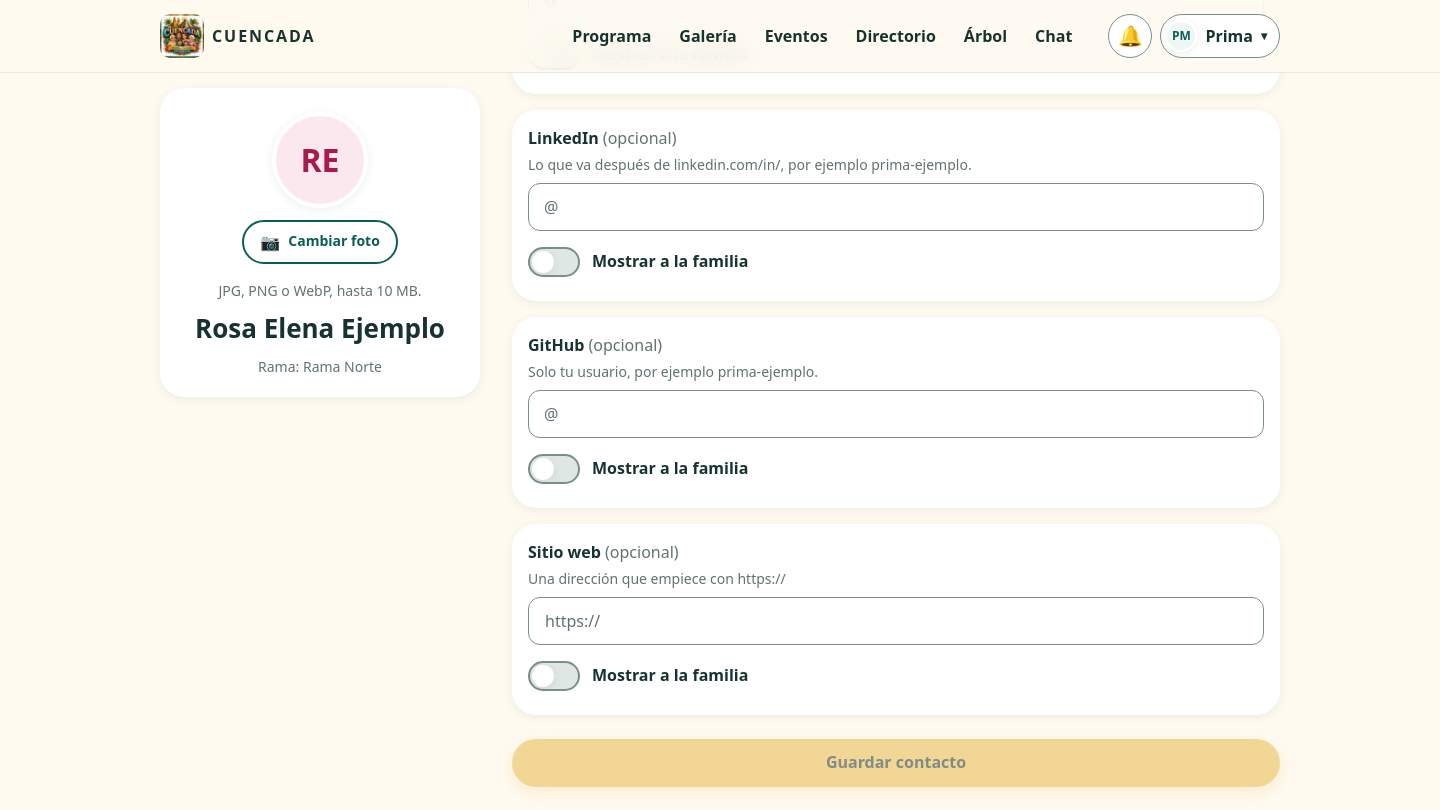
it: ContactSection › rejects an invalid handle and an http website with the contract's Spanish messages
The image size is (1440, 810).
(page scrolled)
Type "prima--ejemplo" into the field labelled "GitHub (opcional)".
click(896, 414); type("prima--ejemplo")  # box [528,390,1264,438]
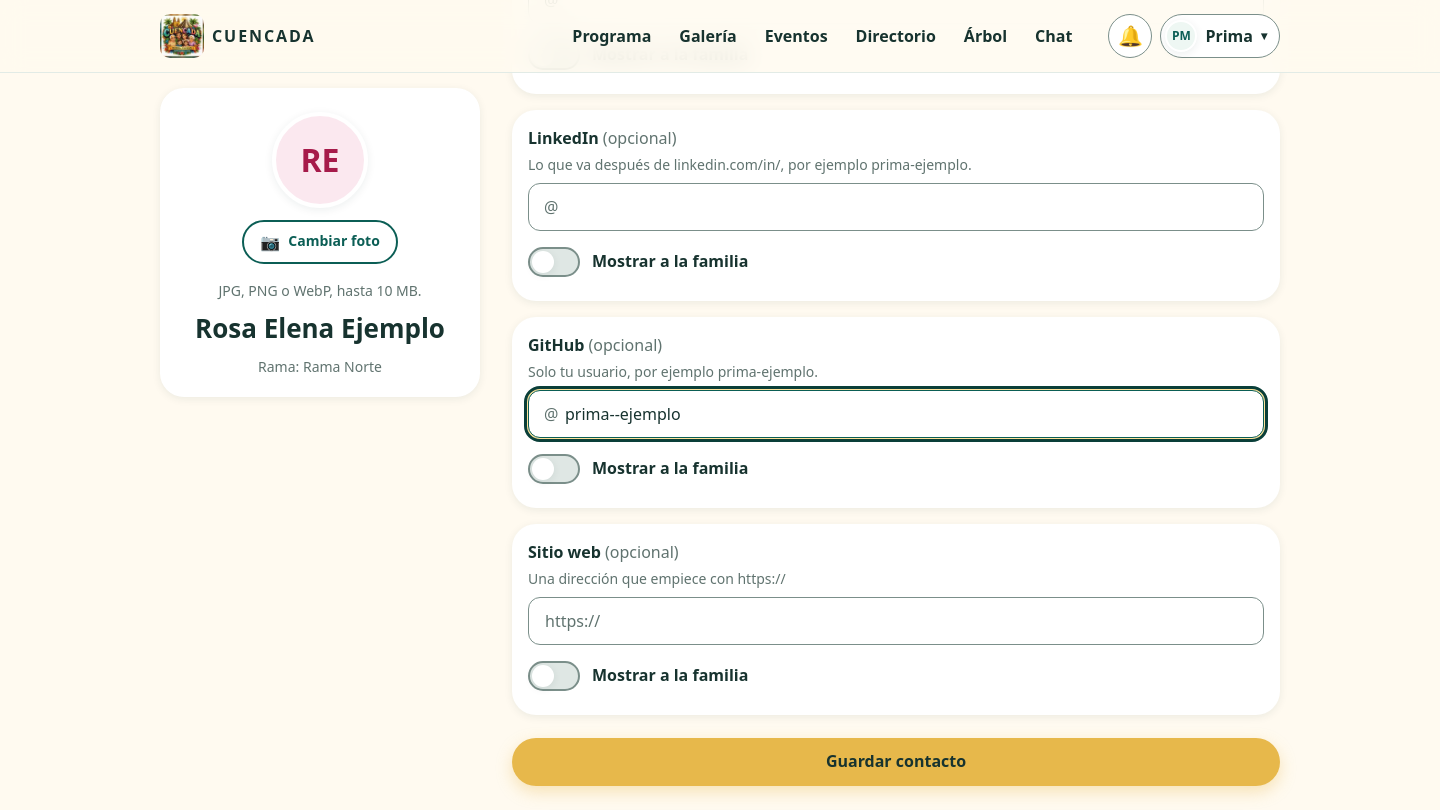
Type "http://example.com" into the field labelled "Sitio web (opcional)".
click(896, 621); type("http://example.com")  # box [528,597,1264,645]
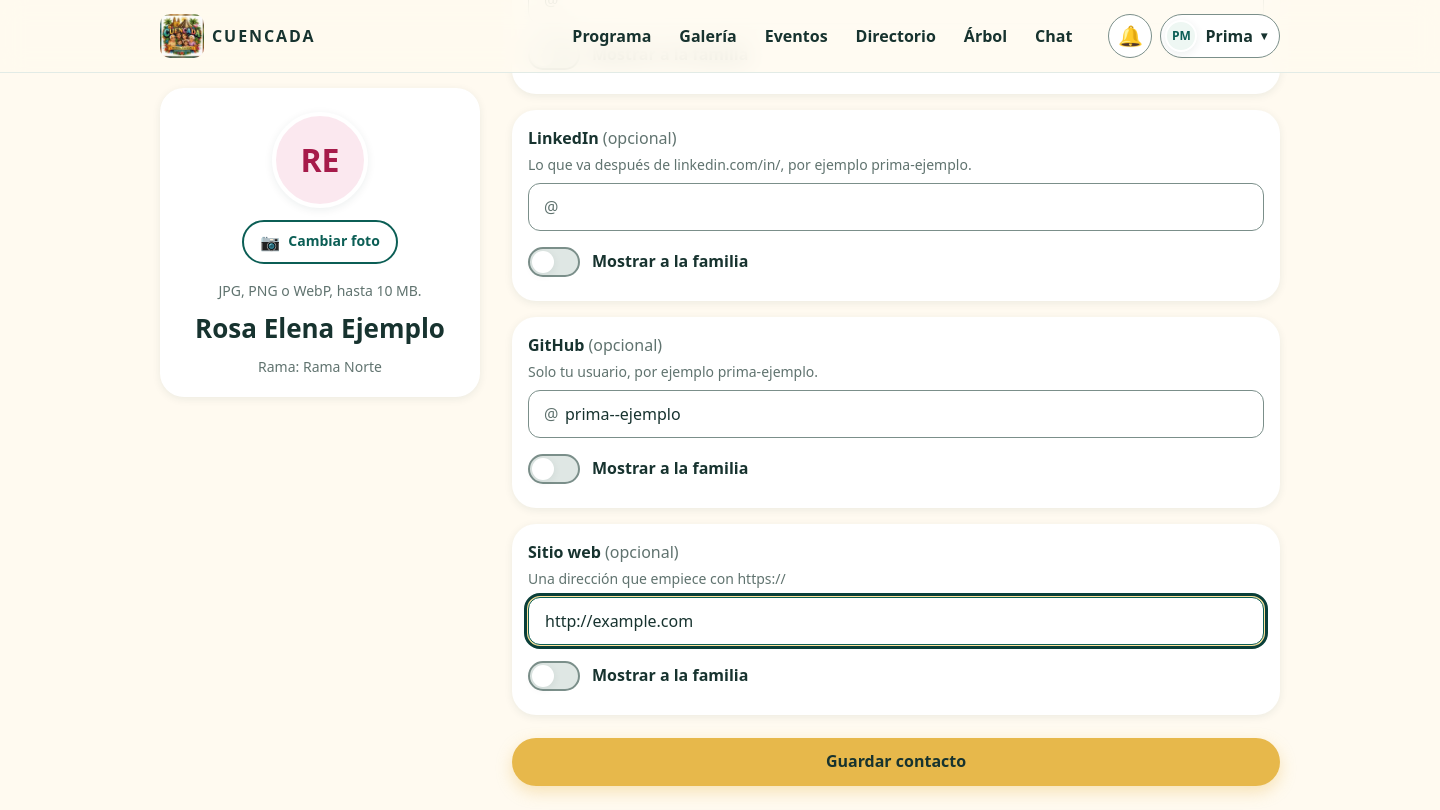
Click the button "Guardar contacto".
click(896, 762)  # box [512,738,1280,786]
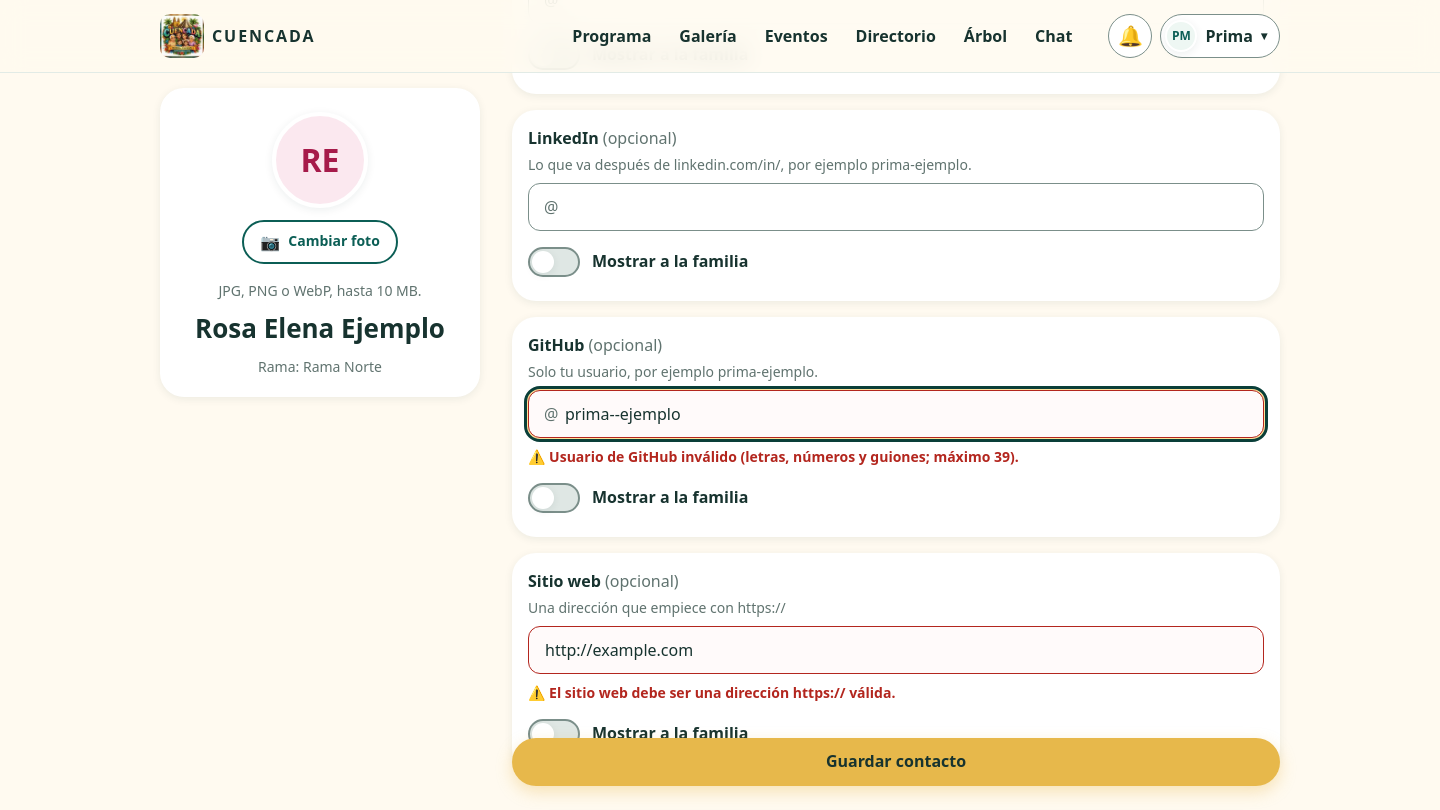
Now the text "Usuario de GitHub inválido" is shown, box [549,447,1019,466]
Now the text "El sitio web debe ser una dirección https:// válida." is shown, box [549,683,895,702]
